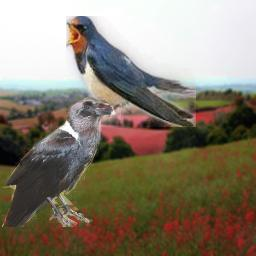Crow: (2, 97, 116, 227)
Swallow: (66, 16, 196, 127)
